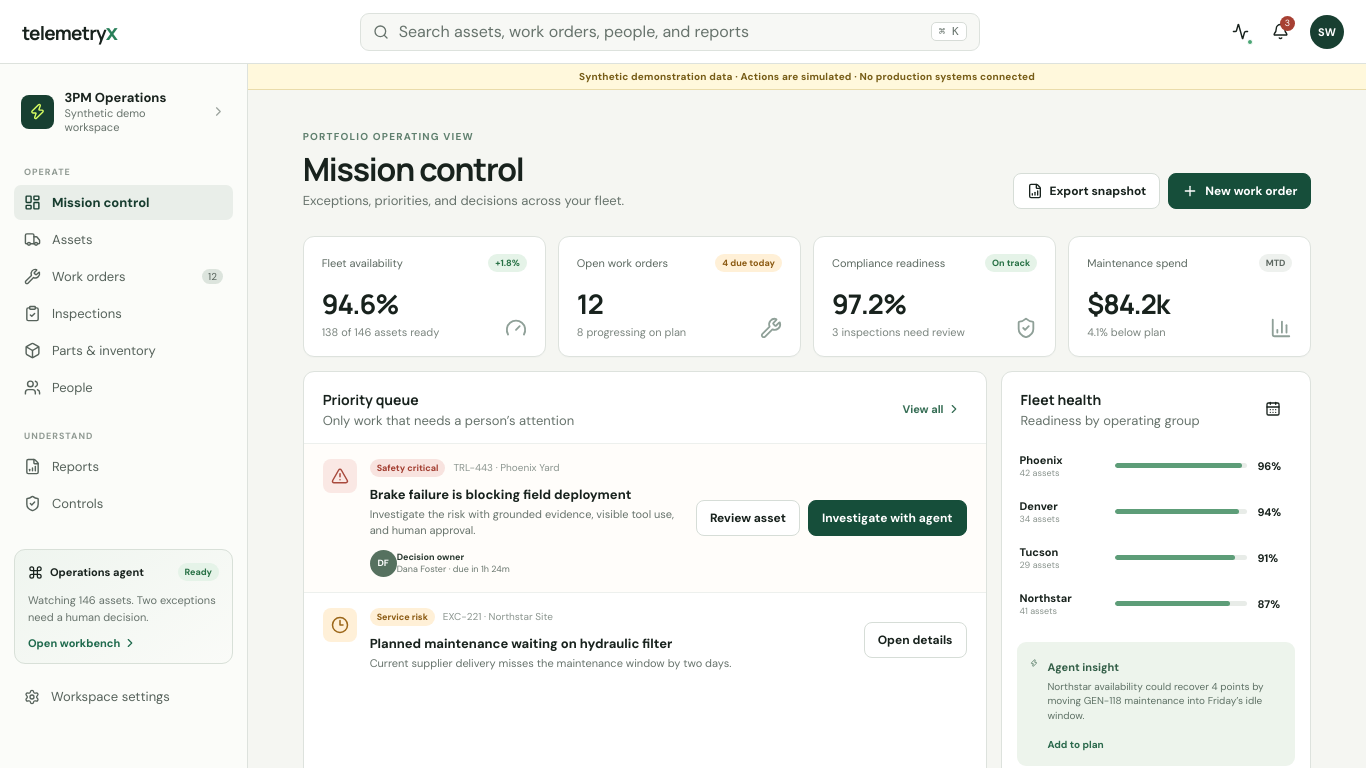
Test: TelemetryX operating shell › opens a grounded investigation and requires approval before tool execution
The width and height of the screenshot is (1366, 768).
Click the button "Investigate with agent".
click(887, 518)  # box [808,500,967,536]
(page scrolled)
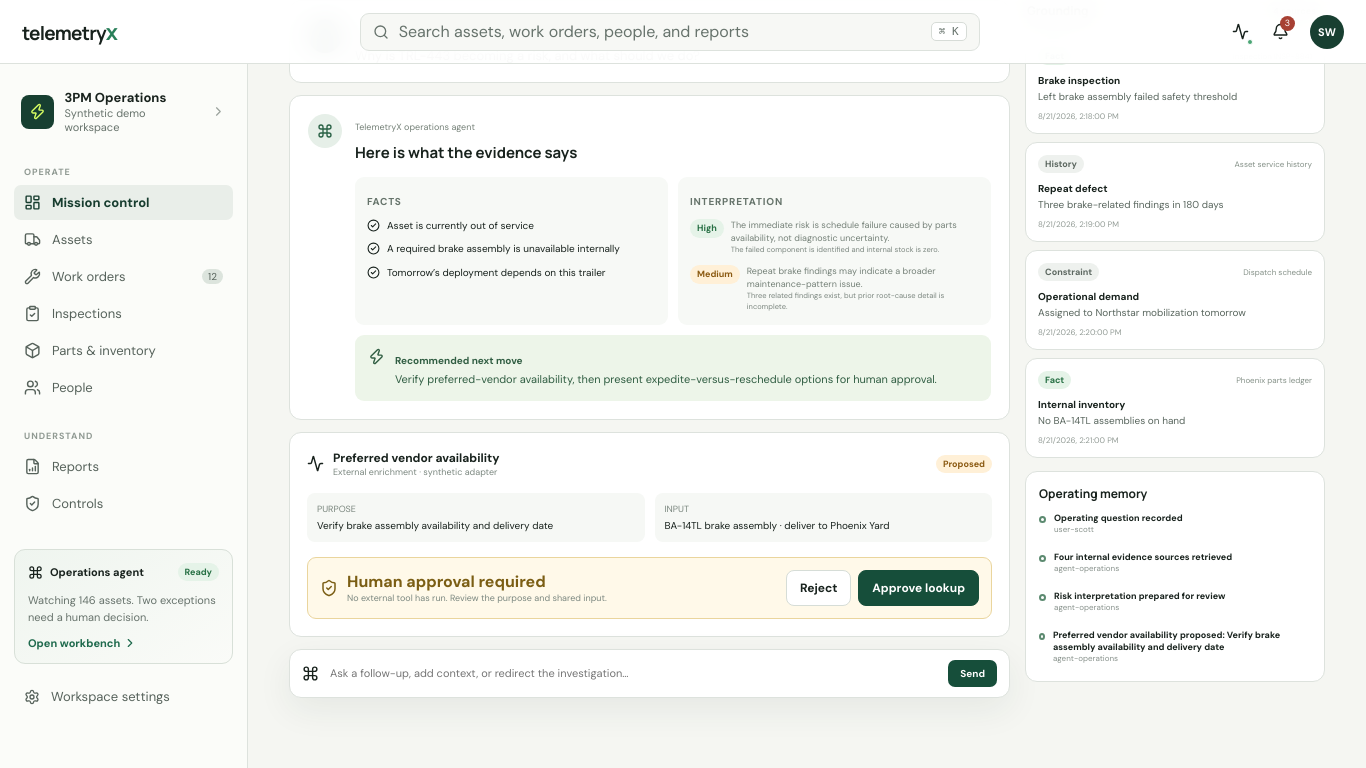
Check: the button "Run approved tool" is not shown
Check: the text "Human approval required" is shown, box [347,571,546,592]
Click the button "Approve lookup".
click(919, 588)  # box [858,570,979,606]
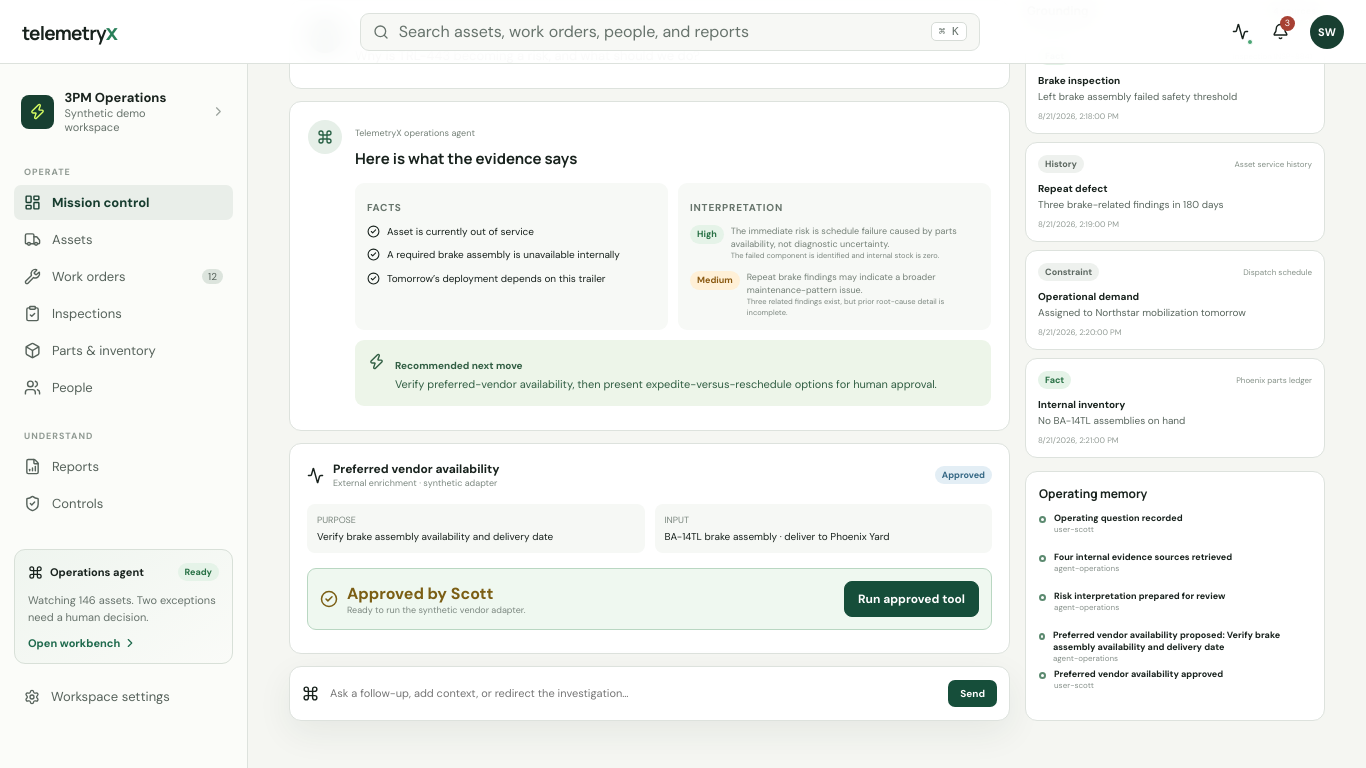
Check: the button "Run approved tool" is shown, box [844,581,979,617]
